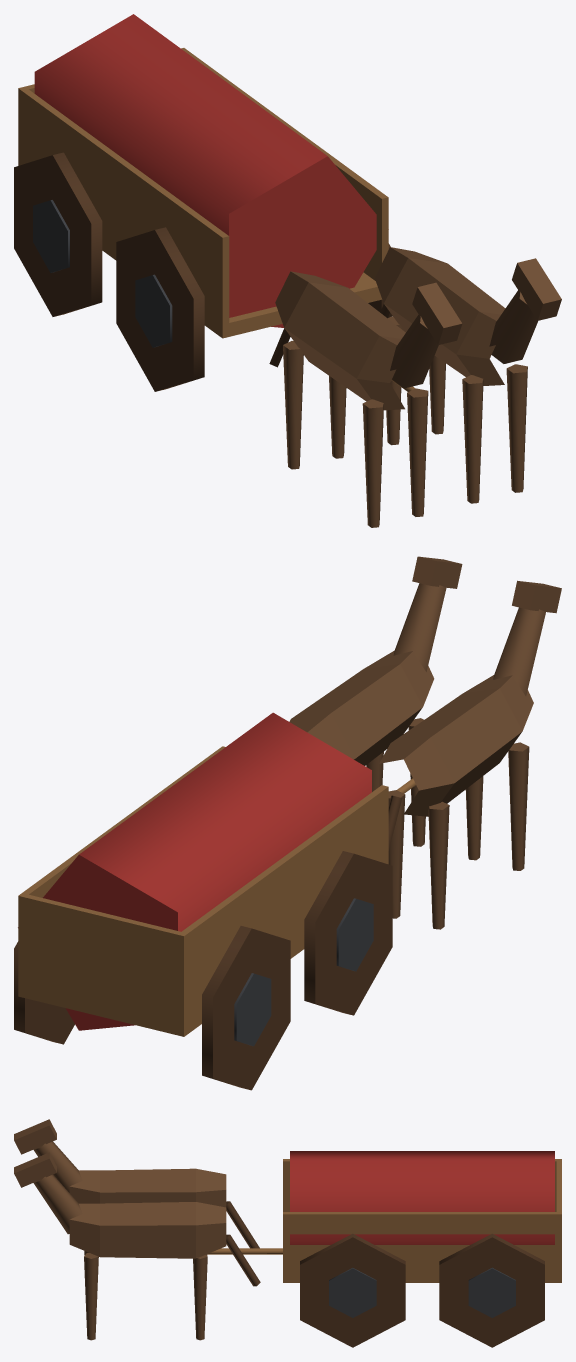
File: veh_ground_caravan_a03_lod1.glb
The picture shows the model from 3 angles, top to bottom: view 1: azimuth 30°, elevation 25°; view 2: azimuth 150°, elevation 25°; view 3: azimuth 270°, elevation 25°; orthographic projection. The views are drawn at different scales.
Parts seen in each view (by area): view 1: body, animal_0, animal_1, wheel_0, wheel_2; view 2: body, animal_0, animal_1, wheel_2, wheel_0, wheel_1; view 3: body, animal_1, wheel_1, wheel_3, animal_0.
Part boxes in pixels (box(x1,y1,x2,y2)): body: box(18, 14, 415, 391); animal_0: box(269, 271, 462, 527); animal_1: box(374, 247, 561, 503); wheel_0: box(14, 152, 102, 316); wheel_2: box(116, 227, 204, 391); body: box(18, 712, 415, 1036); animal_0: box(379, 580, 561, 929); animal_1: box(289, 556, 462, 846); wheel_2: box(304, 851, 392, 1015); wheel_0: box(202, 926, 290, 1090); wheel_1: box(14, 941, 74, 1044); body: box(207, 1151, 561, 1282); animal_1: box(14, 1152, 260, 1340); wheel_1: box(439, 1233, 544, 1347); wheel_3: box(300, 1233, 405, 1347); animal_0: box(14, 1119, 259, 1248).
Bounding box in the file's own units: 1.84 × 2.23 × 6.29.
